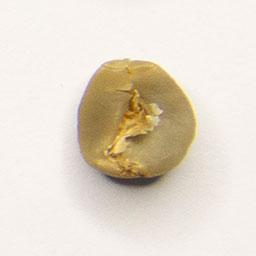premium: (73, 53, 201, 185)
